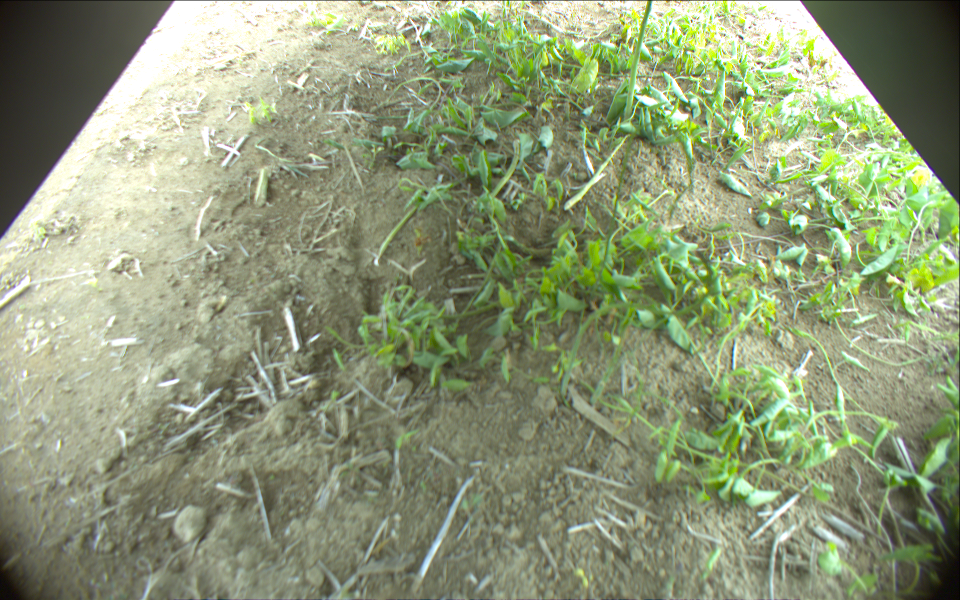aspa: (558, 250, 712, 395), (562, 134, 634, 211), (591, 309, 637, 406), (623, 1, 652, 124), (375, 198, 422, 263), (486, 138, 520, 205)
